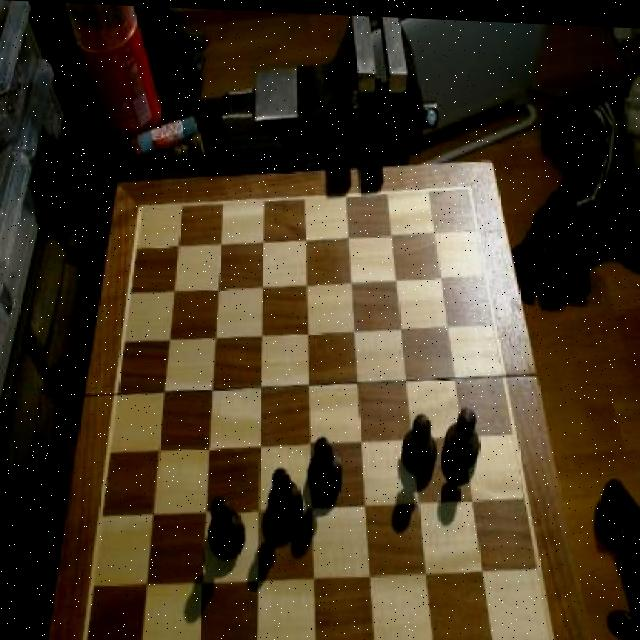black-knight: (206, 492, 251, 562), (443, 400, 483, 474), (266, 463, 306, 537), (308, 433, 344, 501), (403, 409, 437, 475)
